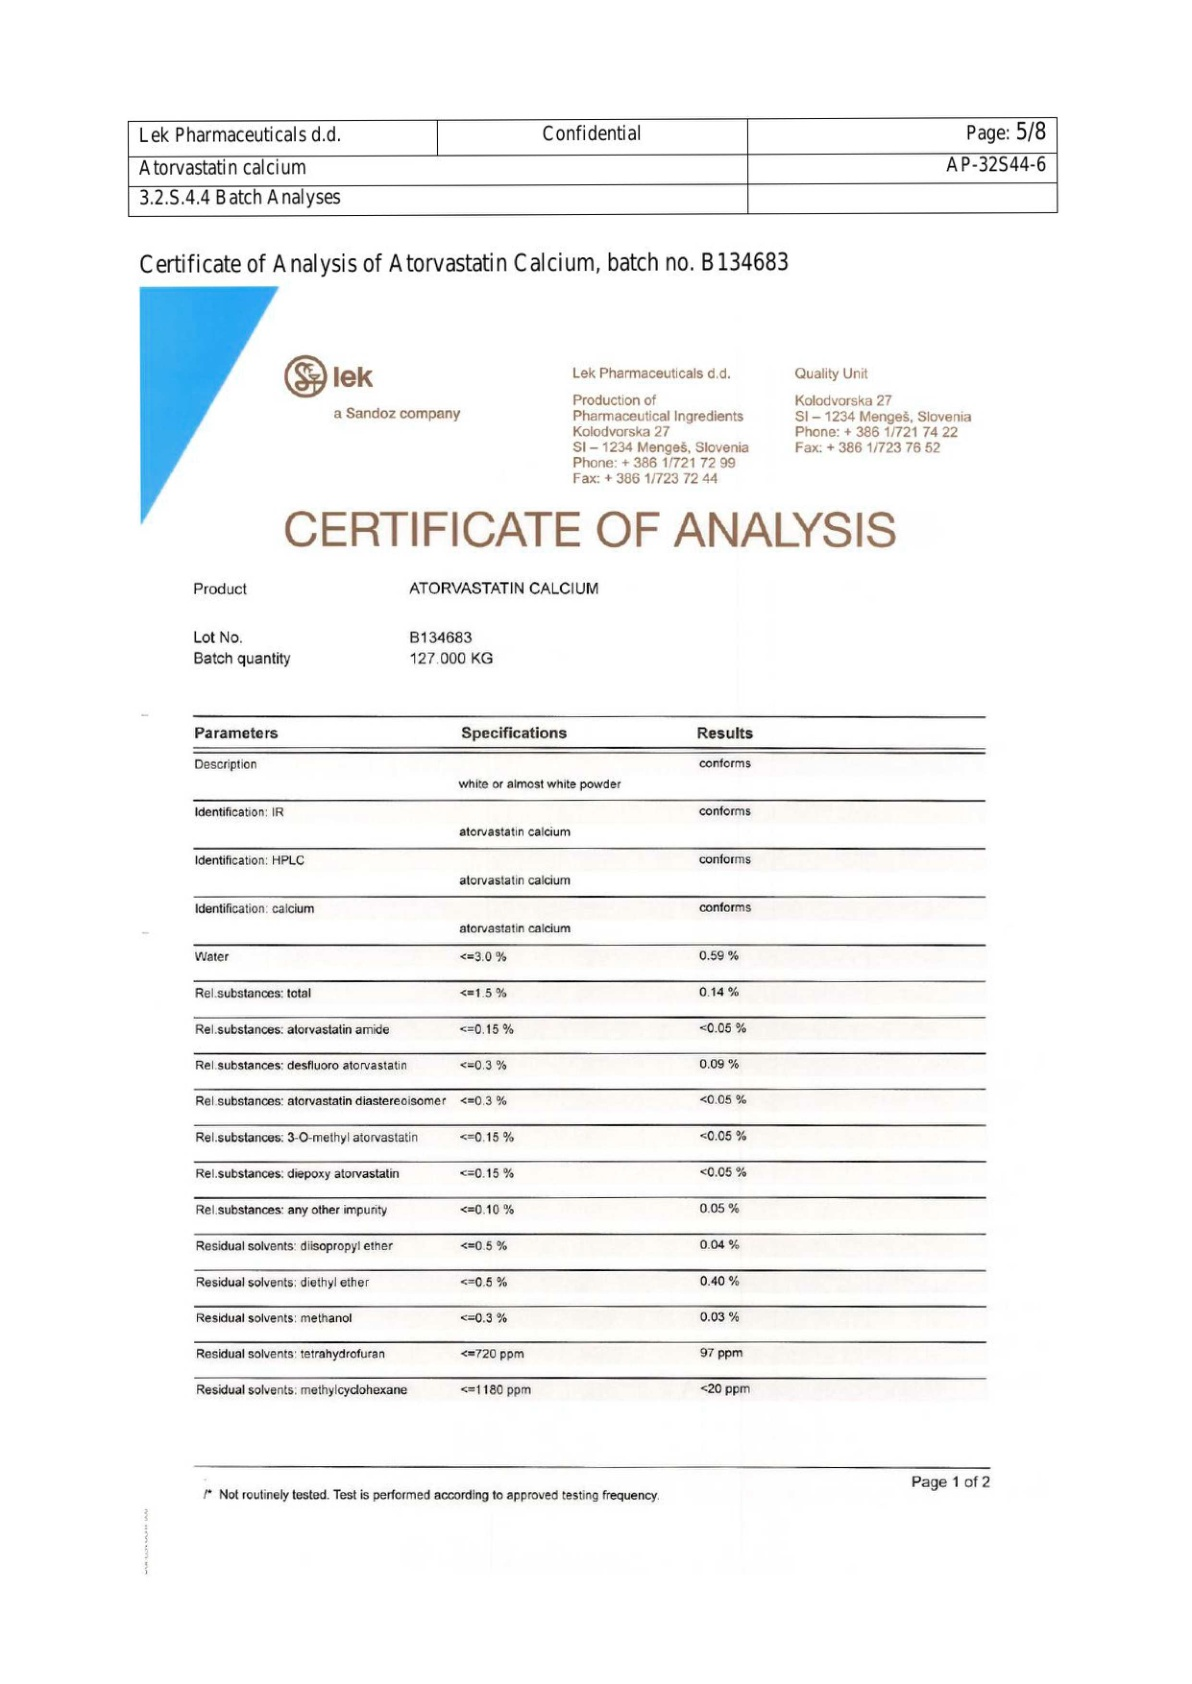merged_cells: (126, 112, 1060, 215)
nolines: (277, 349, 975, 489)
partial_lined: (191, 713, 988, 1402)
